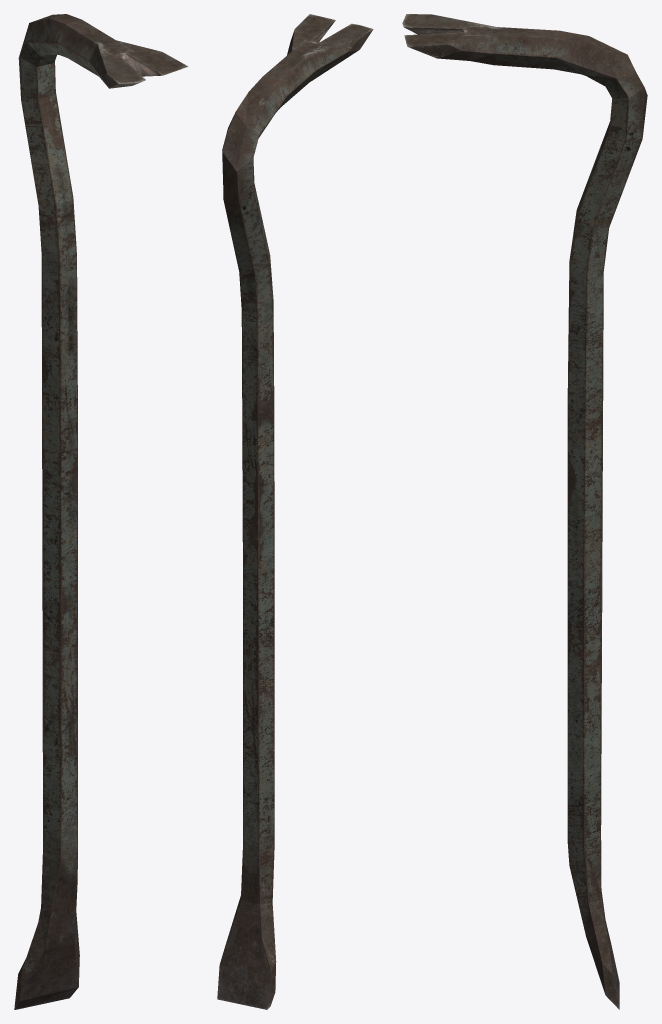
File: Crowbar_LOD2.obj
3 views of the same model, side by side, from view 1: azimuth 30°, elevation 25°; view 2: azimuth 150°, elevation 25°; view 3: azimuth 270°, elevation 25° (orthographic). The views are drawn at different scales.
Visible parts, largest first — view 1: Cube_001; view 2: Cube_001; view 3: Cube_001.
Part boxes in pixels (x1,y1,x2,y2): Cube_001: [14, 14, 188, 1009]; Cube_001: [217, 14, 373, 1009]; Cube_001: [402, 14, 647, 1009].
Size of the model in its own units: 0.0404 by 0.5554 by 0.1276.
1 material, 1 textured.
